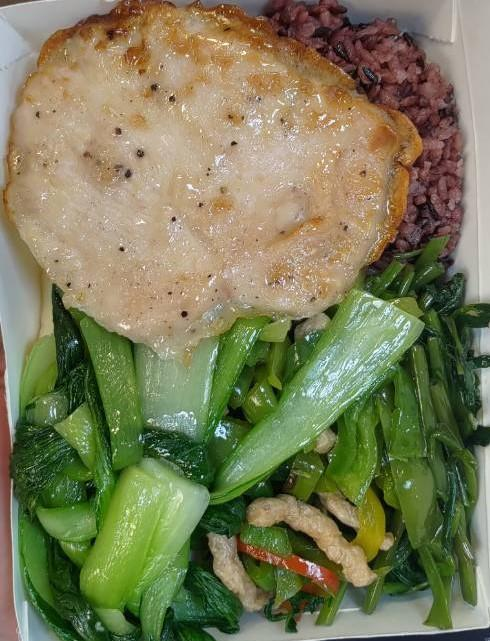big grilled chicken leg: (0, 1, 490, 641)
braised fish: (135, 5, 461, 302)
braised fish fillet: (20, 322, 228, 631), (342, 293, 484, 612), (215, 316, 362, 612)
braised pork: (0, 7, 412, 342)
